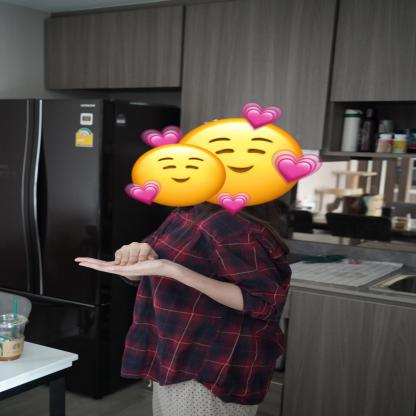Love: (66, 238, 184, 283)
